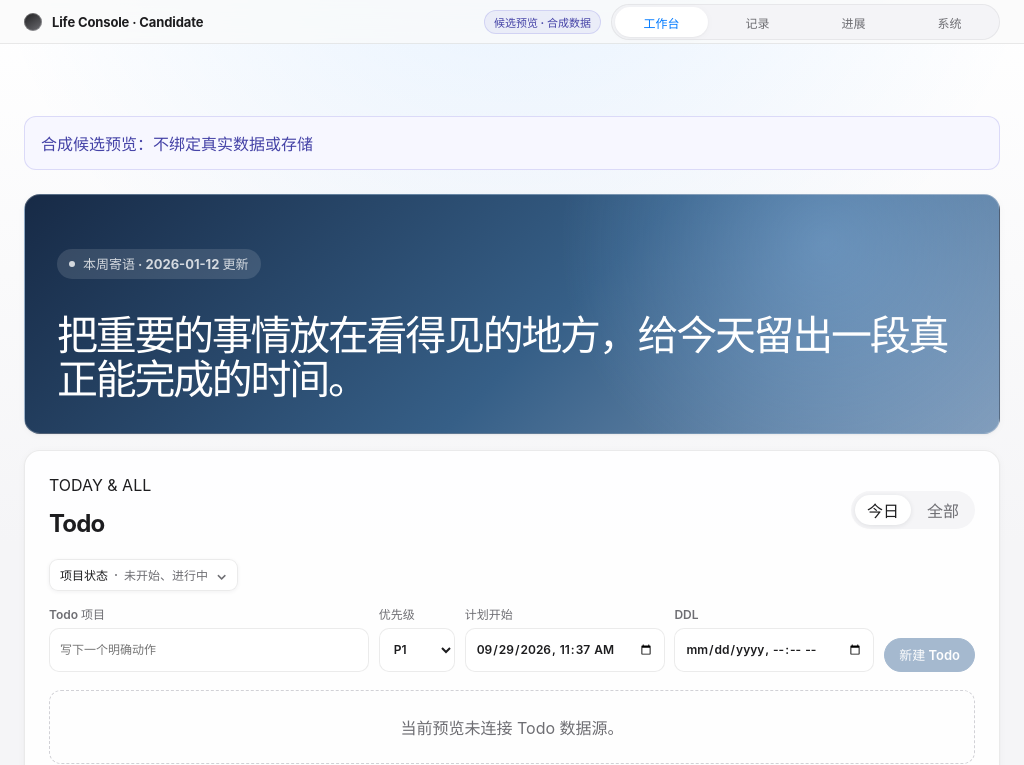
Test case: Life Console candidate preview › soft deletes and restores a synthetic journal without permanent delete
What coordinates should you click on to do the following:
click the button "记录"
I would click on:
 (757, 22)
Its box is [711, 7, 804, 37].
(page scrolled)
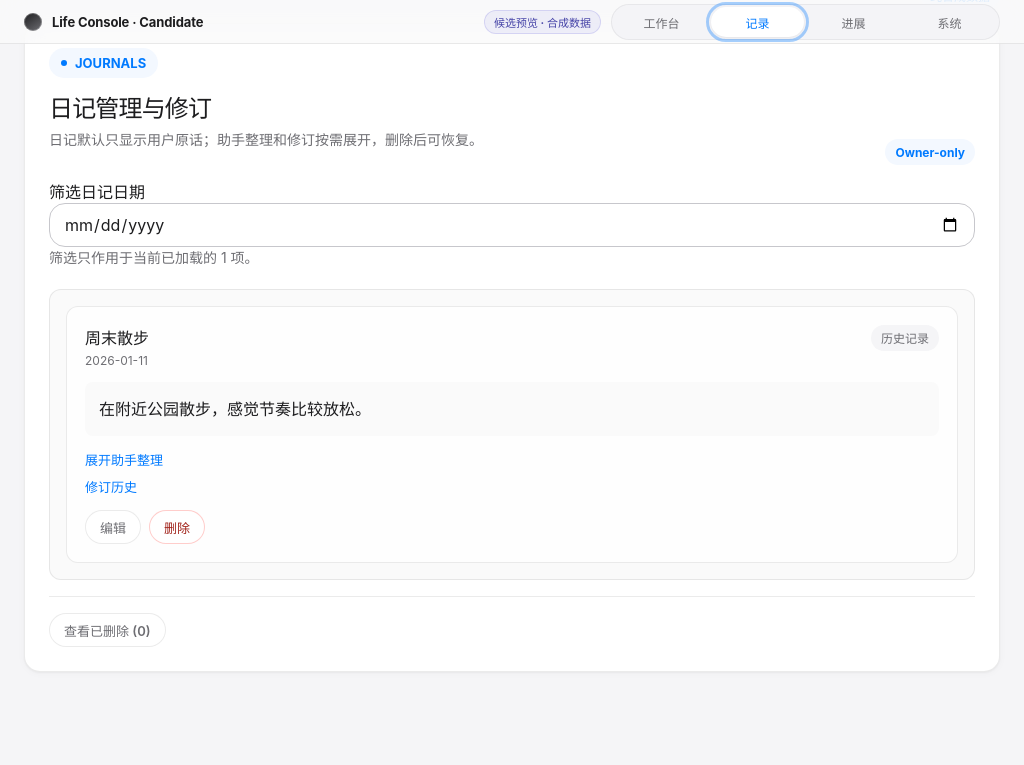
What coordinates should you click on to do the following:
click the button with aria-label "删除日记"
I would click on:
 (177, 527)
Its box is [149, 510, 205, 544].
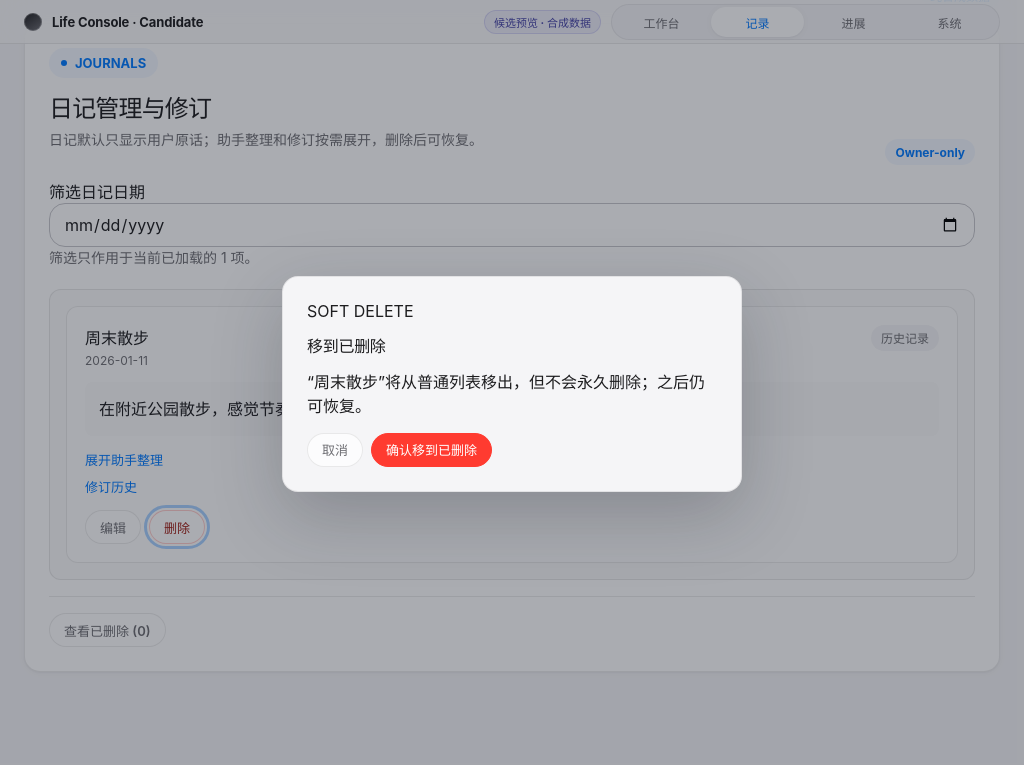
Check: the text "“周末散步”将从普通列表移出，但不会永久删除；之后仍可恢复。" is shown, box [307, 369, 717, 417]
What coordinates should you click on to do the following:
click the button "确认移到已删除"
I would click on:
 (432, 450)
Its box is [371, 433, 492, 467].
(page scrolled)
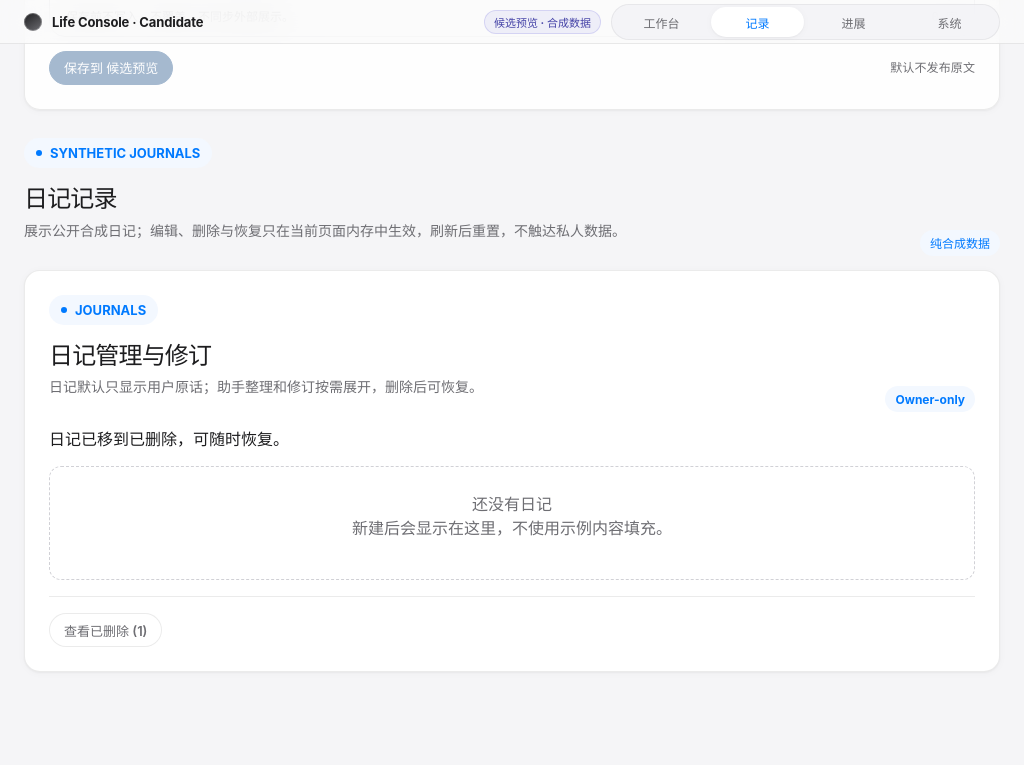
Check: the text "日记已移到已删除，可随时恢复。" is shown, box [49, 429, 289, 449]
Check: the text "周末散步" is gone
What coordinates should you click on to do the following:
click the button "查看已删除 (1)"
I would click on:
 (106, 630)
Its box is [49, 613, 162, 647].
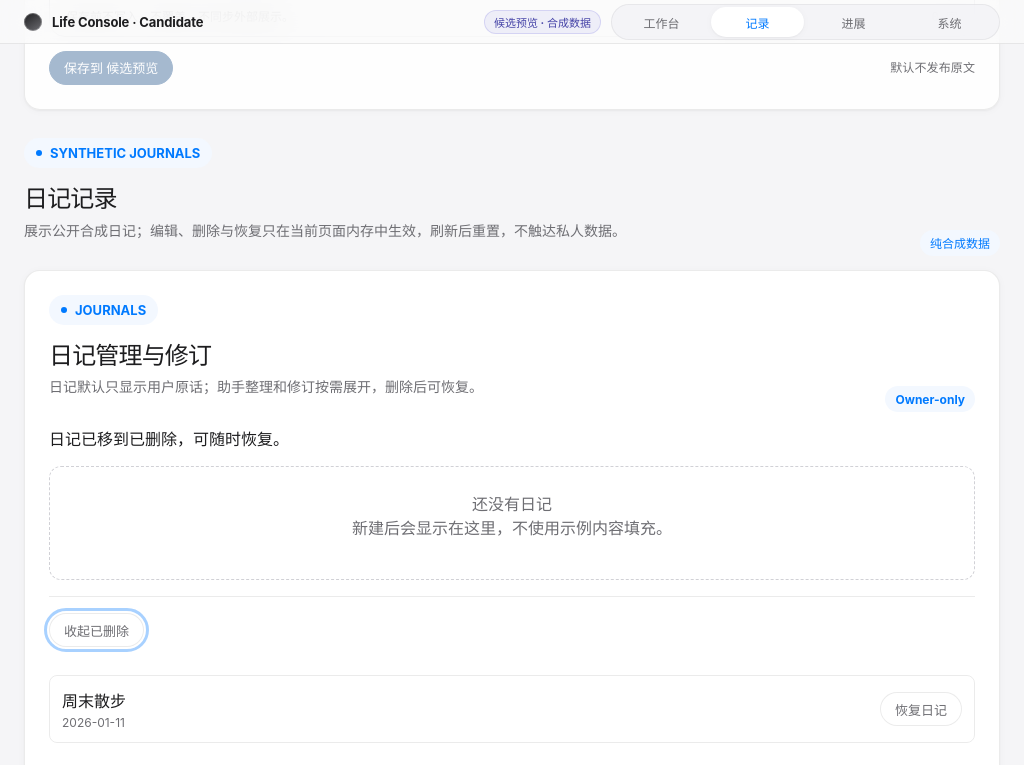
Check: the text "永久删除" is not shown
Check: the text "周末散步" is shown, box [62, 688, 126, 712]
What coordinates should you click on to do the following:
click the button "恢复日记"
I would click on:
 (921, 709)
Its box is [880, 692, 962, 726].
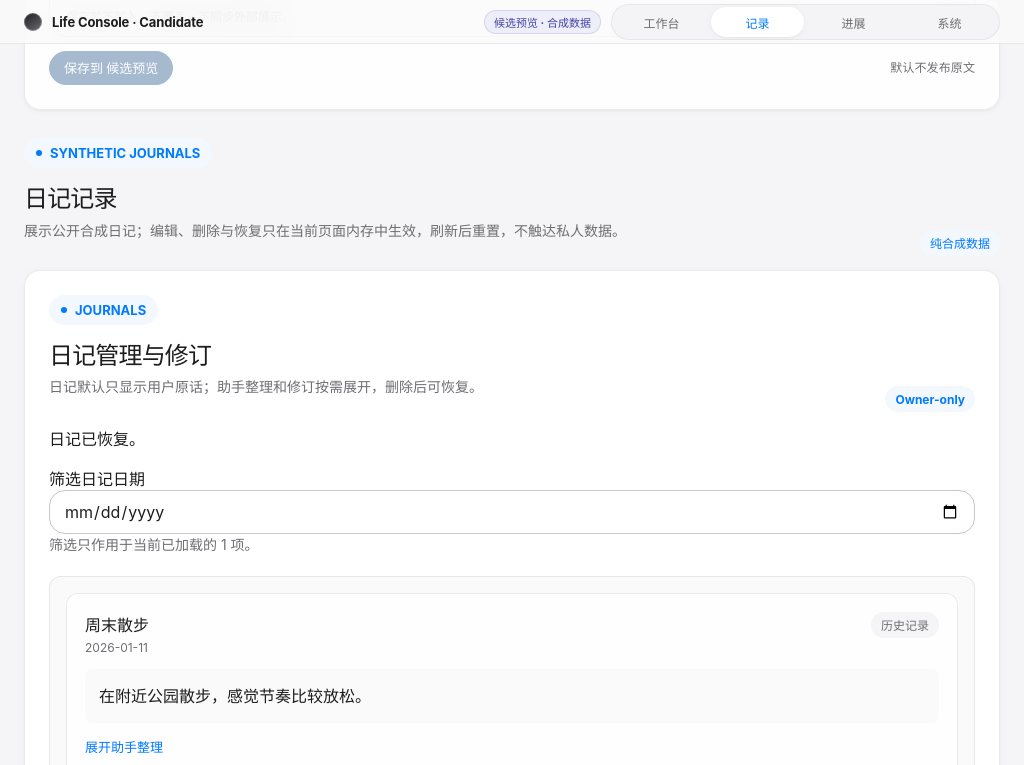
Check: the text "日记已恢复。" is shown, box [49, 429, 145, 449]
